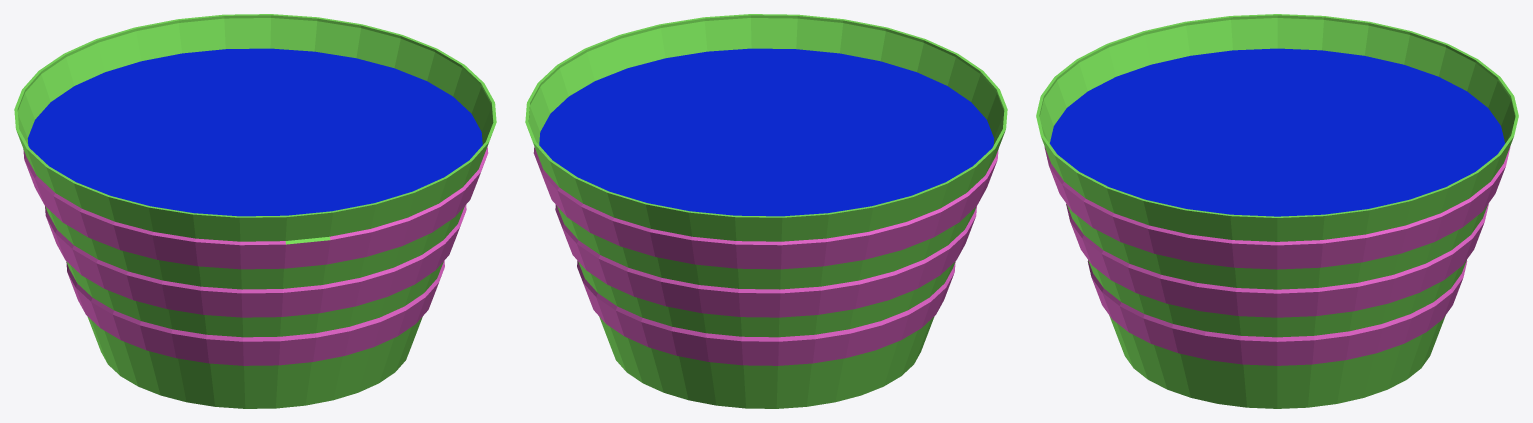
Rendered from Water Bucket.fbx.
3 renders of one model, left to right at view 1: azimuth 30°, elevation 25°; view 2: azimuth 150°, elevation 25°; view 3: azimuth 270°, elevation 25°, orthographic.
Parts seen in each view (by area): view 1: Cylinder; view 2: Cylinder; view 3: Cylinder.
Part boxes in pixels (x1=…): Cylinder: x1=14, y1=14, x2=496, y2=408; Cylinder: x1=525, y1=14, x2=1007, y2=408; Cylinder: x1=1036, y1=14, x2=1518, y2=408.
Size of the model in its own units: 176 by 91.15 by 176.
